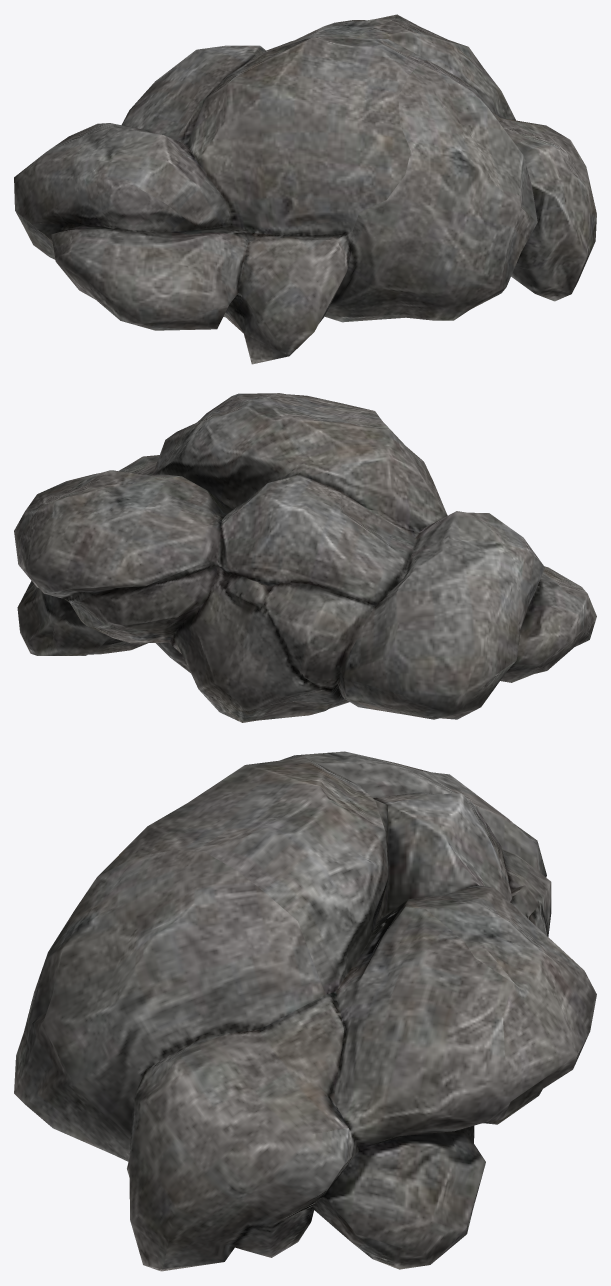
The model's file is rock-cluster.glb.
3 views of the same model, one above another, from view 1: azimuth 30°, elevation 25°; view 2: azimuth 150°, elevation 25°; view 3: azimuth 270°, elevation 25° (orthographic). The views are drawn at different scales.
Bounding box in the file's own units: 136 × 67.57 × 98.91.
Materials: 1 (1 with a texture image).
